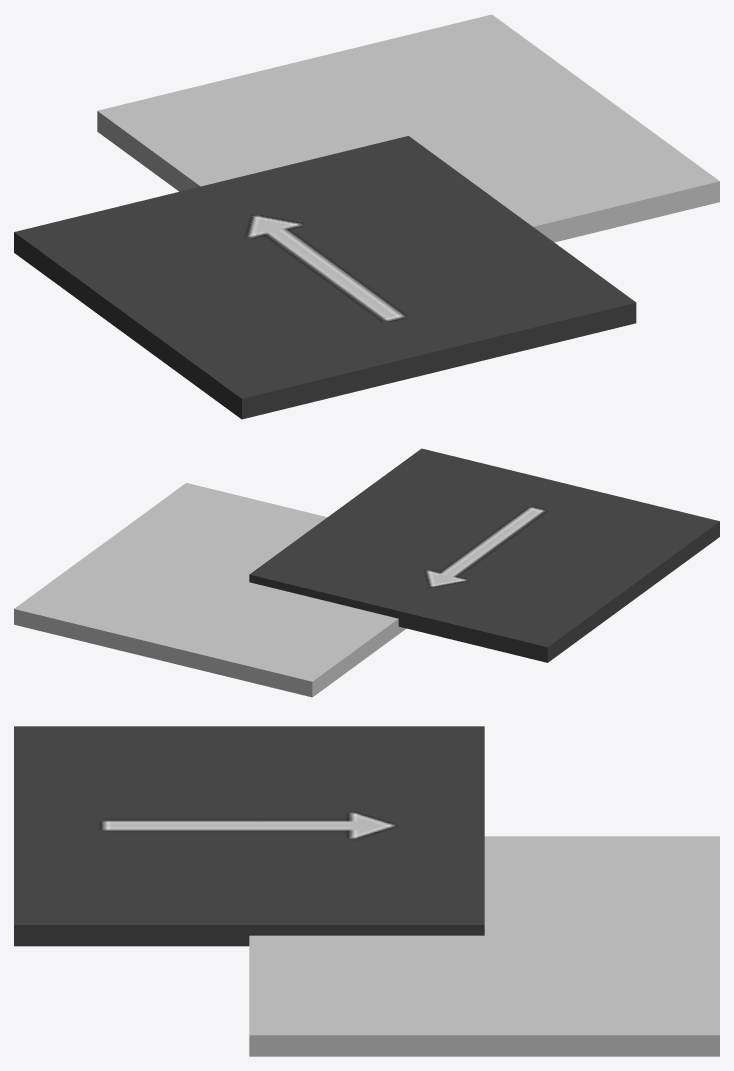
Rendered from SM_Factory_Road_05.fbx.
The picture shows the model from 3 angles, top to bottom: view 1: azimuth 30°, elevation 25°; view 2: azimuth 150°, elevation 25°; view 3: azimuth 270°, elevation 25°; orthographic projection. The views are drawn at different scales.
Parts seen in each view (by area): view 1: SM_Factory_Road_05, SM_Factory_Road_05_ConvexHulls; view 2: SM_Factory_Road_05, SM_Factory_Road_05_ConvexHulls; view 3: SM_Factory_Road_05, SM_Factory_Road_05_ConvexHulls.
Part boxes in pixels (<box>): SM_Factory_Road_05: <box>14,136,636,419</box>; SM_Factory_Road_05_ConvexHulls: <box>97,14,719,242</box>; SM_Factory_Road_05: <box>249,448,719,662</box>; SM_Factory_Road_05_ConvexHulls: <box>14,483,406,697</box>; SM_Factory_Road_05: <box>14,726,484,946</box>; SM_Factory_Road_05_ConvexHulls: <box>249,836,719,1056</box>.
Bounding box in the file's own units: 750 × 750 × 37.6.
2 materials, 1 textured.
